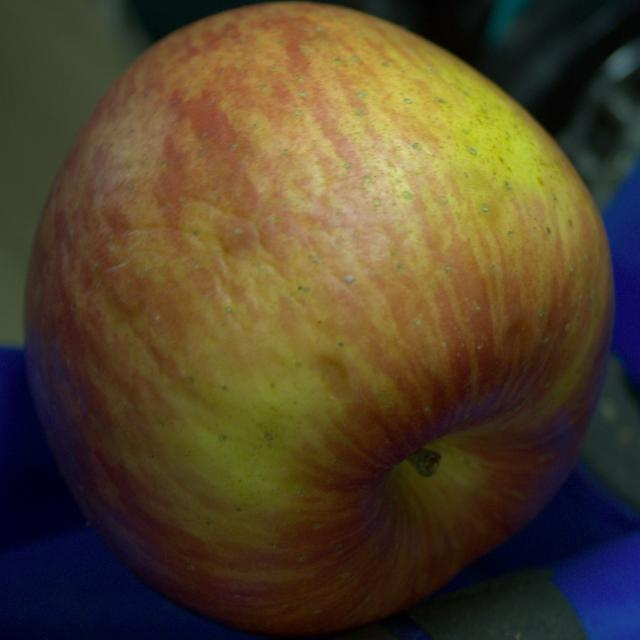apple: (24, 3, 614, 634)
